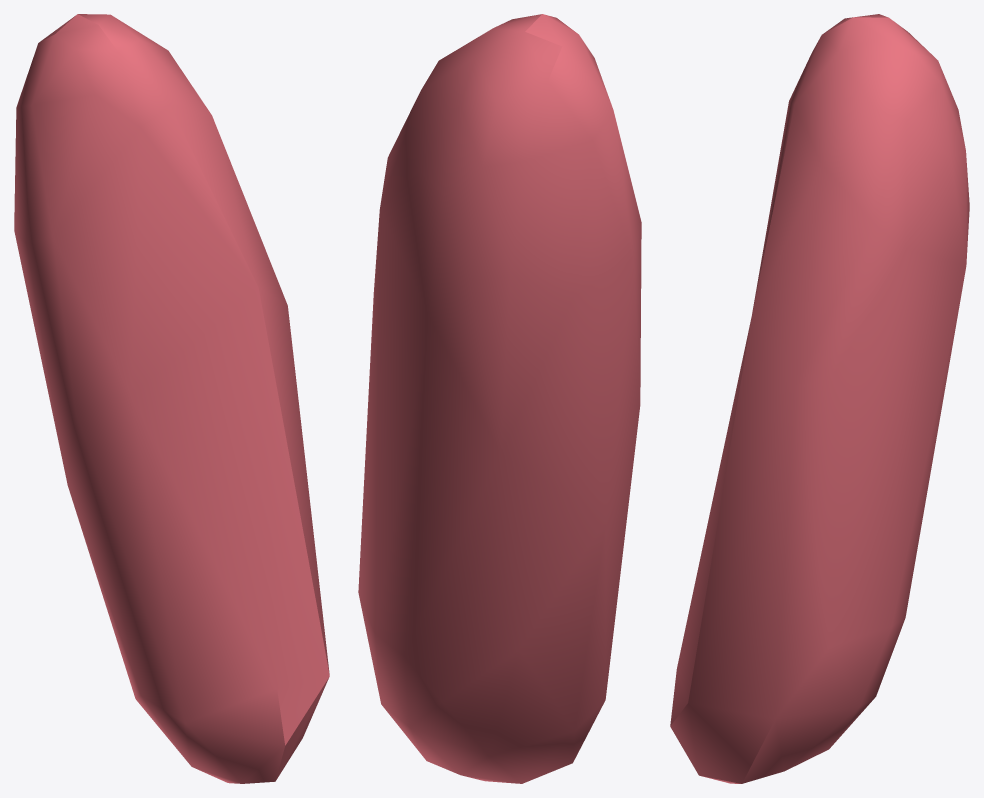
The model's file is fma50099_fj5061.glb.
3 renders of one model, left to right at view 1: azimuth 30°, elevation 25°; view 2: azimuth 150°, elevation 25°; view 3: azimuth 270°, elevation 25°, orthographic. The views are drawn at different scales.
Parts seen in each view (by area): view 1: FMA50099_FJ5061; view 2: FMA50099_FJ5061; view 3: FMA50099_FJ5061.
Boxes of the visible parts, left/top/right/bottom form: FMA50099_FJ5061: left=14, top=14, right=329, bottom=783; FMA50099_FJ5061: left=358, top=14, right=641, bottom=783; FMA50099_FJ5061: left=670, top=14, right=969, bottom=783.
Size of the model in its own units: 0.00521 by 0.0142 by 0.00534.
